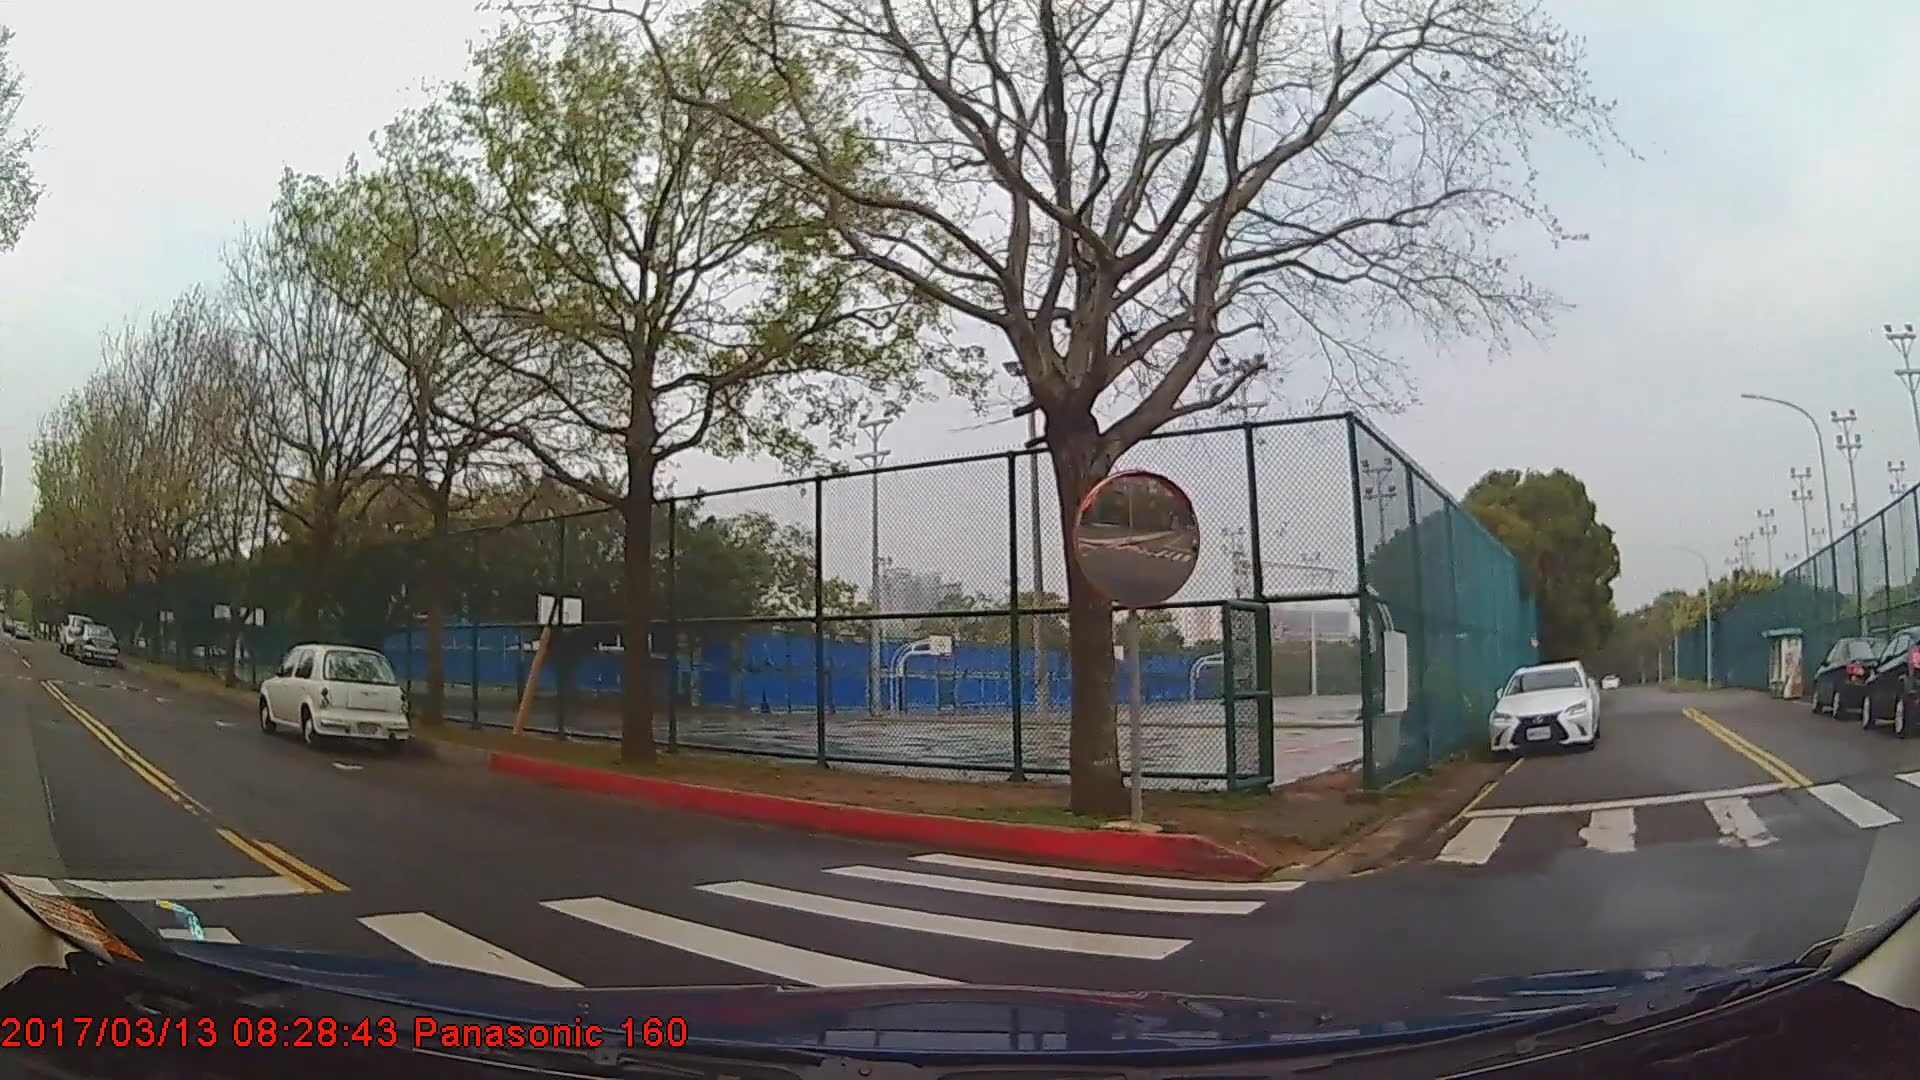vehicle: (257, 640, 411, 742), (1487, 658, 1601, 754), (1811, 632, 1899, 716), (1859, 625, 1919, 738), (69, 620, 117, 665)
